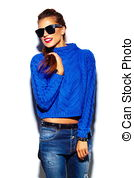face: (31, 8, 70, 56)
